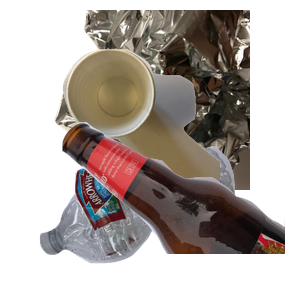glass: (60, 120, 300, 300)
metal: (52, 10, 292, 190)
plastic: (37, 144, 265, 300)
trash: (60, 47, 300, 227)
